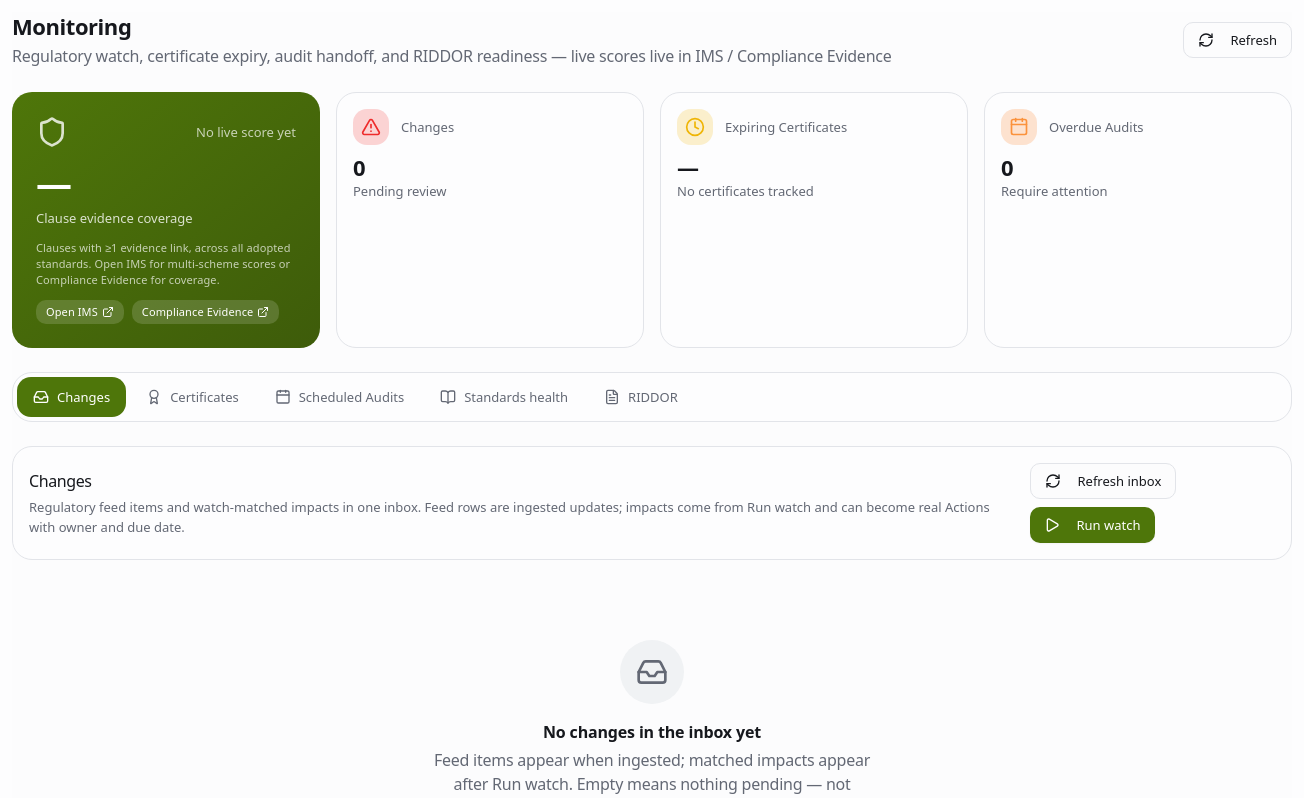
ComplianceAutomation monitoring honesty › shows honest certificates empty state when API returns no certificates
expect the heading "Monitoring" is shown: met, box [12,11,131,41]
Click the button "Certificates": (192, 397) [130,377,255,417]
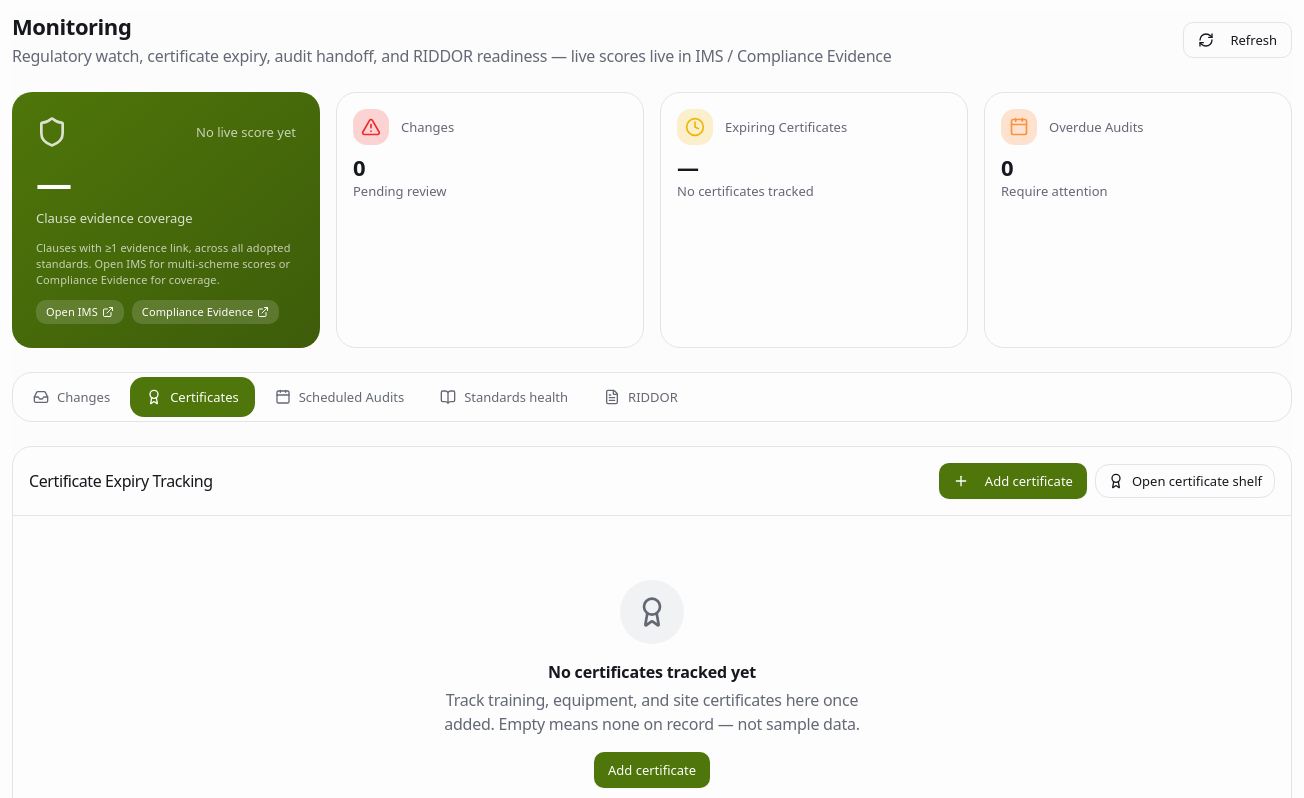
expect the element with test id "monitoring-certificates-empty" is shown: met, box [444,580,860,788]
expect the heading "No certificates tracked yet" is shown: met, box [548,661,756,683]
